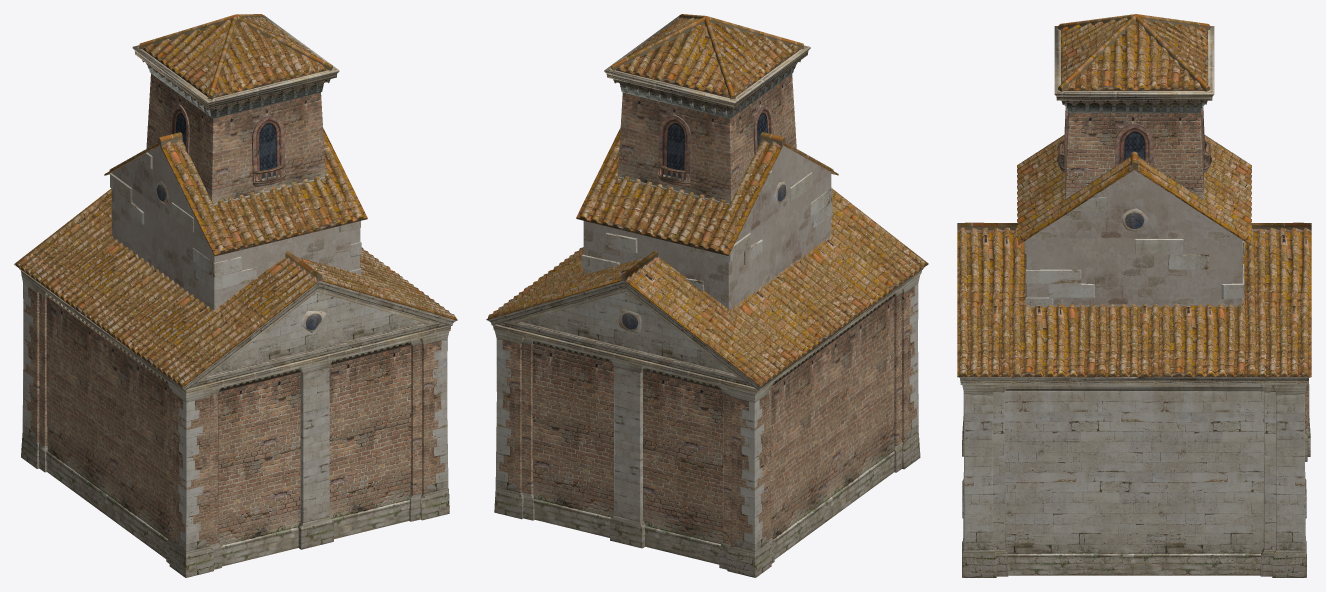
File: Basic5.fbx
3 renders of one model, left to right at view 1: azimuth 30°, elevation 25°; view 2: azimuth 150°, elevation 25°; view 3: azimuth 270°, elevation 25°, orthographic. The views are drawn at different scales.
Parts seen in each view (by area): view 1: LV_Campagna_City_CommonBuilding04_SM_CNH; view 2: LV_Campagna_City_CommonBuilding04_SM_CNH; view 3: LV_Campagna_City_CommonBuilding04_SM_CNH.
Part boxes in pixels (x1,y1,x2,y2): LV_Campagna_City_CommonBuilding04_SM_CNH: (14, 14, 457, 577); LV_Campagna_City_CommonBuilding04_SM_CNH: (486, 14, 928, 577); LV_Campagna_City_CommonBuilding04_SM_CNH: (957, 14, 1311, 577).
Size of the model in its own units: 3.47 by 5.65 by 3.66.
